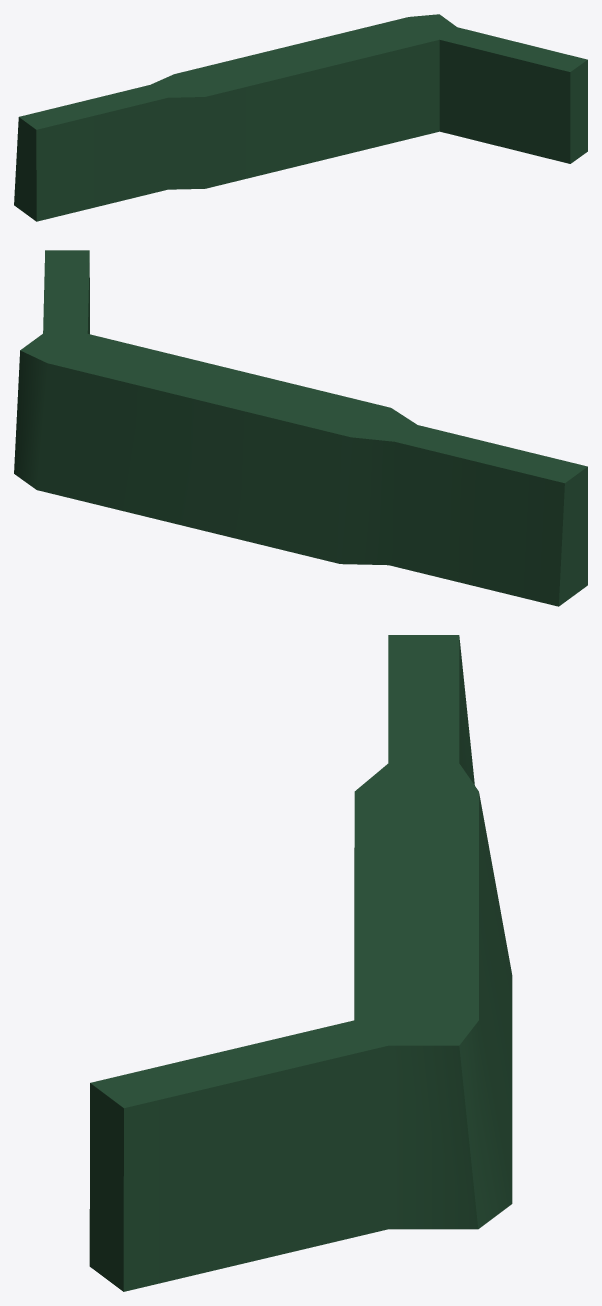
Rendered from wall7.fbx.
3 views of the same model, one above another, from view 1: azimuth 30°, elevation 25°; view 2: azimuth 150°, elevation 25°; view 3: azimuth 270°, elevation 25° (orthographic). The views are drawn at different scales.
Parts seen in each view (by area): view 1: wall7; view 2: wall7; view 3: wall7.
Part boxes in pixels (x1,y1,x2,y2): wall7: [14, 14, 587, 221]; wall7: [14, 250, 587, 606]; wall7: [89, 635, 512, 1291].
Bounding box in the file's own units: 429 × 77.74 × 162.
